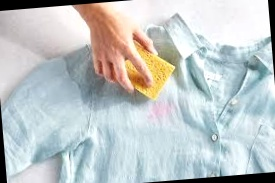lipstick: (142, 98, 174, 119)
